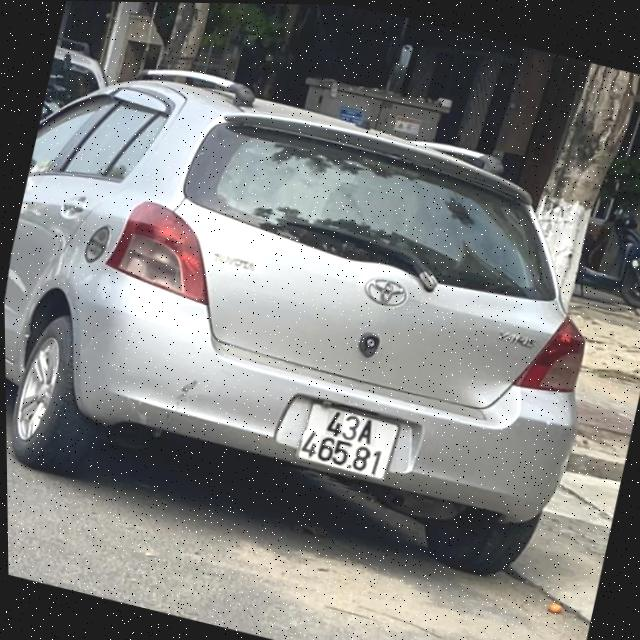car: (1, 43, 634, 589)
plate: (277, 386, 428, 495)
